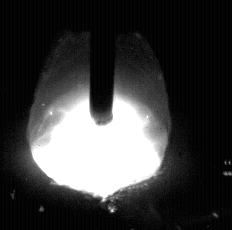arame: (90, 0, 115, 126)
poca: (27, 0, 172, 230)
